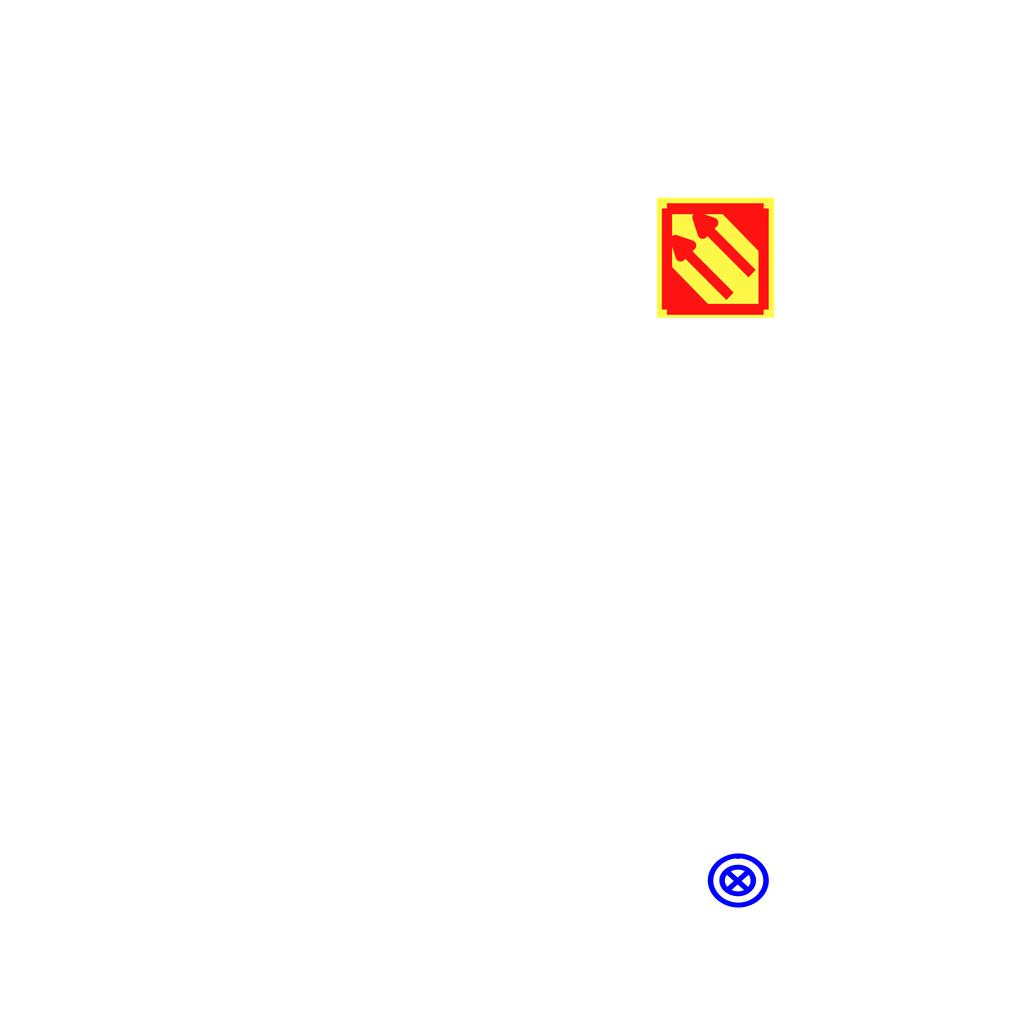ASR_Ansaugrauchmelder: (653, 195, 778, 320)
Taster_beleuchtet: (705, 848, 771, 914)
